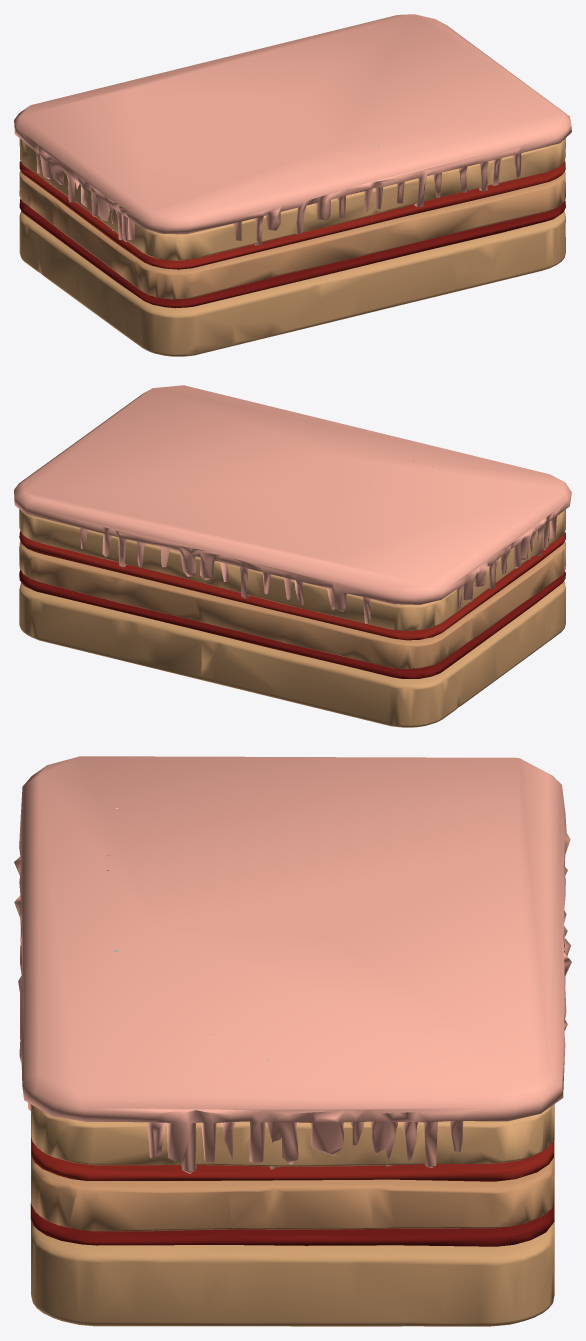
The model's file is cake-mesa-lod.glb.
3 views of the same model, one above another, from view 1: azimuth 30°, elevation 25°; view 2: azimuth 150°, elevation 25°; view 3: azimuth 270°, elevation 25° (orthographic). The views are drawn at different scales.
Parts seen in each view (by area): view 1: Rounded poured strawberry frosting low candidate, Golden sponge bottom low candidate, Golden sponge lower low candidate, Golden sponge upper low candidate, Raspberry jam deep low candidate, Raspberry jam ribbon low candidate; view 2: Rounded poured strawberry frosting low candidate, Golden sponge bottom low candidate, Golden sponge lower low candidate, Golden sponge upper low candidate, Raspberry jam ribbon low candidate, Raspberry jam deep low candidate; view 3: Rounded poured strawberry frosting low candidate, Golden sponge bottom low candidate, Golden sponge lower low candidate, Golden sponge upper low candidate, Raspberry jam deep low candidate, Raspberry jam ribbon low candidate.
Part boxes in pixels (<box>): Rounded poured strawberry frosting low candidate: <box>14,14,571,245</box>; Golden sponge bottom low candidate: <box>19,211,565,356</box>; Golden sponge lower low candidate: <box>19,170,565,299</box>; Golden sponge upper low candidate: <box>19,138,565,260</box>; Raspberry jam deep low candidate: <box>19,199,565,308</box>; Raspberry jam ribbon low candidate: <box>19,161,565,269</box>; Rounded poured strawberry frosting low candidate: <box>14,385,571,623</box>; Golden sponge bottom low candidate: <box>19,580,565,727</box>; Golden sponge lower low candidate: <box>19,541,565,669</box>; Golden sponge upper low candidate: <box>19,509,565,630</box>; Raspberry jam ribbon low candidate: <box>19,531,565,640</box>; Raspberry jam deep low candidate: <box>19,570,565,678</box>; Rounded poured strawberry frosting low candidate: <box>14,756,571,1173</box>; Golden sponge bottom low candidate: <box>30,1175,554,1326</box>; Golden sponge lower low candidate: <box>31,1108,554,1231</box>; Golden sponge upper low candidate: <box>31,1104,554,1166</box>; Raspberry jam deep low candidate: <box>31,1203,554,1246</box>; Raspberry jam ribbon low candidate: <box>31,1137,554,1181</box>.
Bounding box in the file's own units: 13.16 × 4.2 × 8.74.
